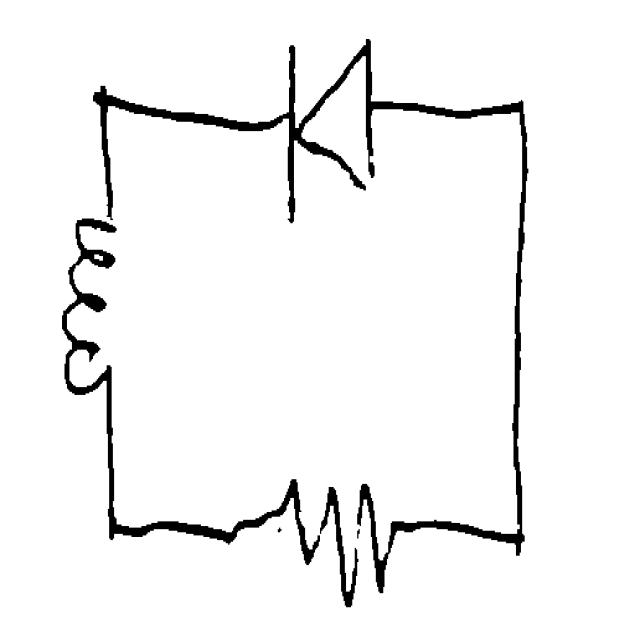diode: (264, 27, 393, 228)
inductor: (51, 203, 130, 426)
resistor: (254, 460, 416, 614)
